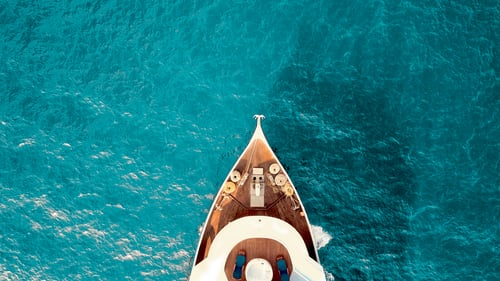yacht: (174, 107, 333, 281)
